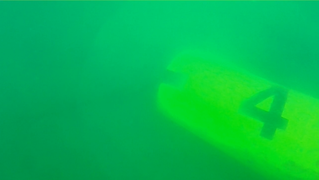4: (241, 84, 289, 141)
pipe: (156, 48, 319, 180)
